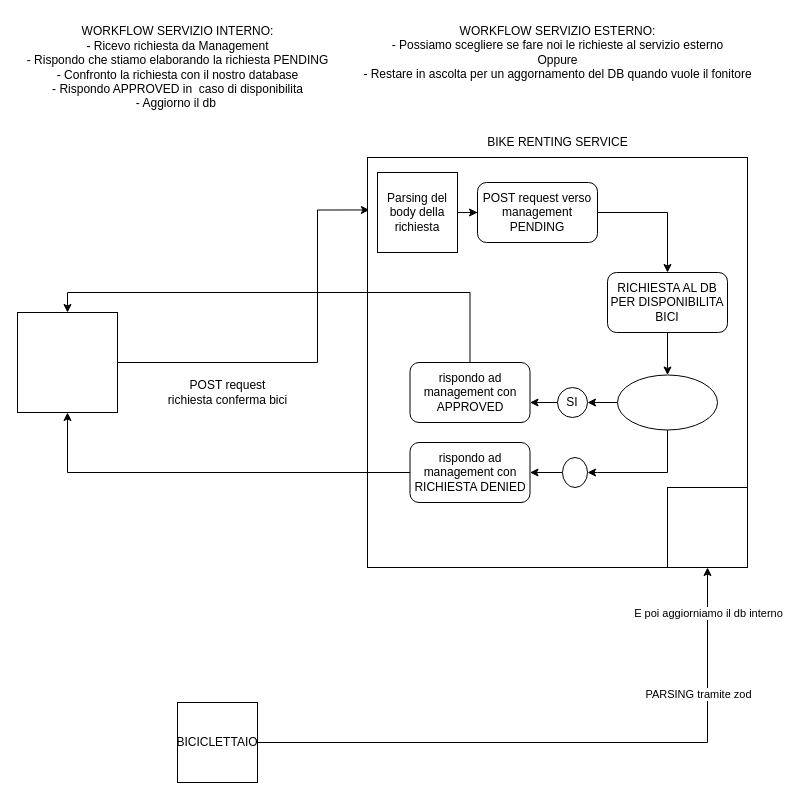
Some shapes in this 800 by 800 pixel diagram are drawn without their labels. Here are the shapes that lost their labels. From the top down, the centre of each, then its label:
At point (67, 362): "MANAMGEMENT MICROSERVICE".
At point (667, 402): "rispondo a management con PENDING".
At point (575, 472): "NO".
At point (707, 527): "DB".
